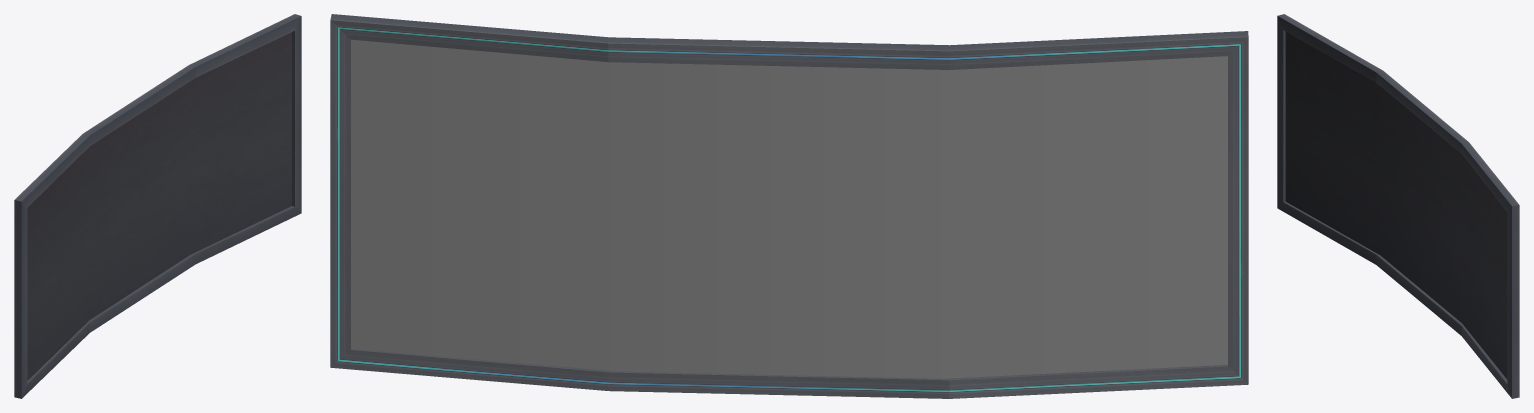
File: mesh_1002_guangao_2.FBX
The picture shows the model from 3 angles, left to right: view 1: azimuth 30°, elevation 25°; view 2: azimuth 150°, elevation 25°; view 3: azimuth 270°, elevation 25°; orthographic projection. The views are drawn at different scales.
Parts seen in each view (by area): view 1: mesh_1002_guangao_2; view 2: mesh_1002_guangao_2b, mesh_1002_guangao_2; view 3: mesh_1002_guangao_2.
Part boxes in pixels (<box>): mesh_1002_guangao_2: <box>14,14,301,398</box>; mesh_1002_guangao_2b: <box>351,39,1227,378</box>; mesh_1002_guangao_2: <box>330,14,1248,398</box>; mesh_1002_guangao_2: <box>1277,14,1519,398</box>.
Size of the model in its own units: 1469 by 686 by 781.
2 materials, 1 textured.
